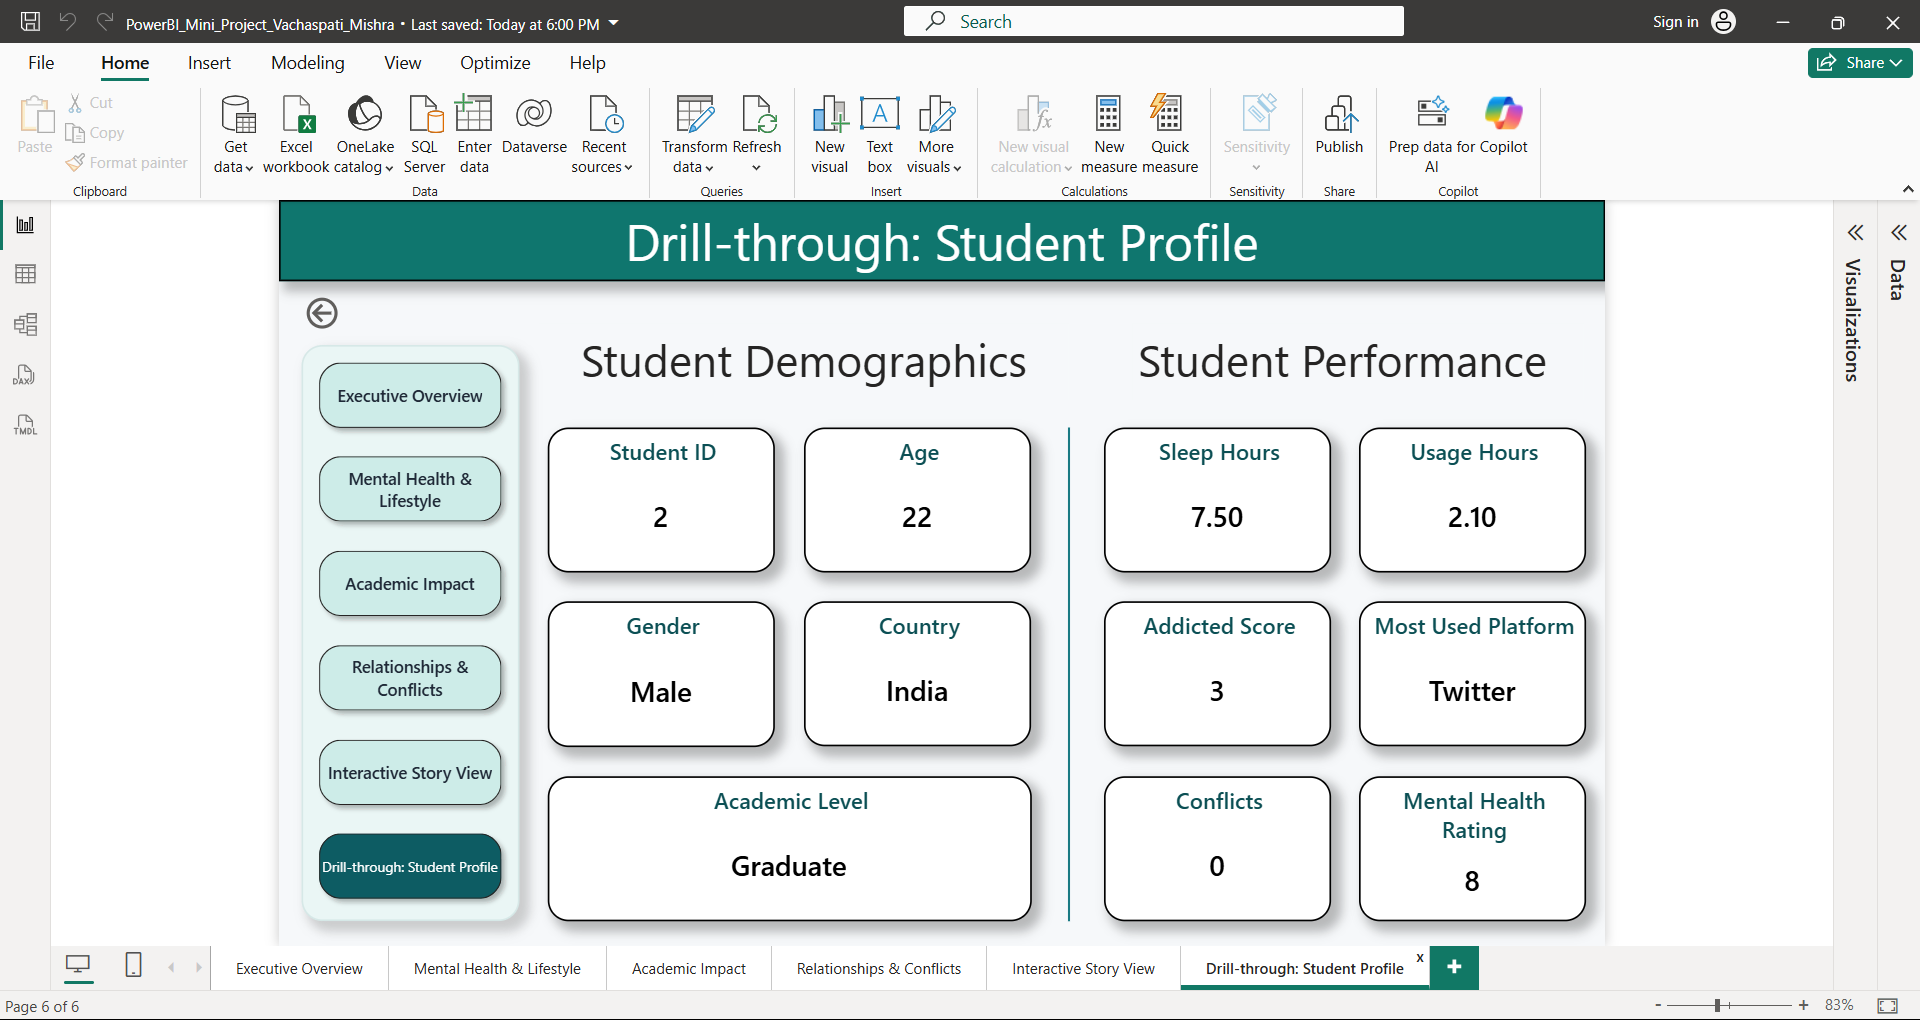

Layout of this report page (visuals, bound fields, positions):
{"tool":"powerbi","page":{"name":"Drill-through: Student Profile","canvas":[1280,720],"ordinal":5},"visuals":[{"type":"textbox","box":[0,0,1280.3,78.3],"z":0},{"type":"cardVisual","title":"Student ID","fields":{"Data":["Sum(Student Details.Student_ID)"]},"box":[259.4,219.6,219.6,139.9],"z":1000},{"type":"cardVisual","title":"Academic Level","fields":{"Data":["Min(Student Details.Academic_Level)"]},"box":[259.4,556.2,466.9,139.9],"z":2000},{"type":"cardVisual","title":"Age","fields":{"Data":["Sum(Student Details.Age)"]},"box":[506.7,219.6,219.6,139.9],"z":3000},{"type":"cardVisual","title":"Gender","fields":{"Data":["Min(Student Details.Gender)"]},"box":[259.4,387.3,219.6,141.2],"z":4000},{"type":"cardVisual","title":"Country","fields":{"Data":["Min(Student Details.Country)"]},"box":[506.7,387.3,219.6,139.9],"z":5000},{"type":"cardVisual","title":"Mental Health Rating","fields":{"Data":["Sum(Student Details.Mental_Health_Score)"]},"box":[1042.4,556.2,219.6,139.9],"z":6000},{"type":"cardVisual","title":"Sleep Hours","fields":{"Data":["Sum(Student Details.Sleep_Hours_Per_Night)"]},"box":[796.3,219.6,219.6,139.9],"z":7000},{"type":"cardVisual","title":"Usage Hours","fields":{"Data":["Sum(Student Details.Platform Details.Avg_Daily_Usage_Hours)"]},"box":[1042.4,219.6,219.6,139.9],"z":8000},{"type":"cardVisual","title":"Addicted Score","fields":{"Data":["Sum(Student Details.Addicted_Score)"]},"box":[796.3,387.3,219.6,139.9],"z":9000},{"type":"cardVisual","title":"Most Used Platform","fields":{"Data":["Min(Student Details.Platform Details.Most_Used_Platform)"]},"box":[1042.4,387.3,219.6,139.9],"z":10000},{"type":"cardVisual","title":"Conflicts","fields":{"Data":["Sum(Student Details.Conflicts_Over_Social_Media)"]},"box":[796.3,556.2,219.6,139.9],"z":11000},{"type":"actionButton","box":[21.7,89.3,100.1,39.8],"z":12000},{"type":"textbox","box":[250.9,119.4,511.5,73.6],"z":13000},{"type":"textbox","box":[824,119.4,435.5,73.6],"z":14000},{"type":"shape","box":[738.3,219.6,48.3,476.5],"z":15000},{"type":"pageNavigator","box":[21.7,139.9,210,556.2],"z":16000}]}

Visuals, with their boxes on the page's 1280x720 design canvas (x1, y1, x2, y2). These are canvas units, not pixel positions in the 1920x1020 screenshot, which may show the page scaled, cropped or inside an application window:
textbox: bbox=(0, 0, 1280, 78)
"Student ID" cardVisual: bbox=(259, 220, 479, 360)
"Academic Level" cardVisual: bbox=(259, 556, 726, 696)
"Age" cardVisual: bbox=(507, 220, 726, 360)
"Gender" cardVisual: bbox=(259, 387, 479, 528)
"Country" cardVisual: bbox=(507, 387, 726, 527)
"Mental Health Rating" cardVisual: bbox=(1042, 556, 1262, 696)
"Sleep Hours" cardVisual: bbox=(796, 220, 1016, 360)
"Usage Hours" cardVisual: bbox=(1042, 220, 1262, 360)
"Addicted Score" cardVisual: bbox=(796, 387, 1016, 527)
"Most Used Platform" cardVisual: bbox=(1042, 387, 1262, 527)
"Conflicts" cardVisual: bbox=(796, 556, 1016, 696)
actionButton: bbox=(22, 89, 122, 129)
textbox: bbox=(251, 119, 762, 193)
textbox: bbox=(824, 119, 1260, 193)
shape: bbox=(738, 220, 787, 696)
pageNavigator: bbox=(22, 140, 232, 696)
